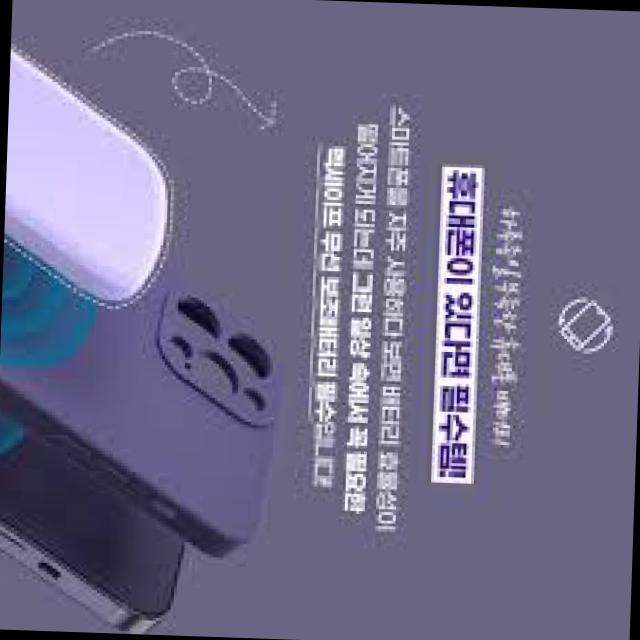power_bank: (0, 50, 182, 309)
